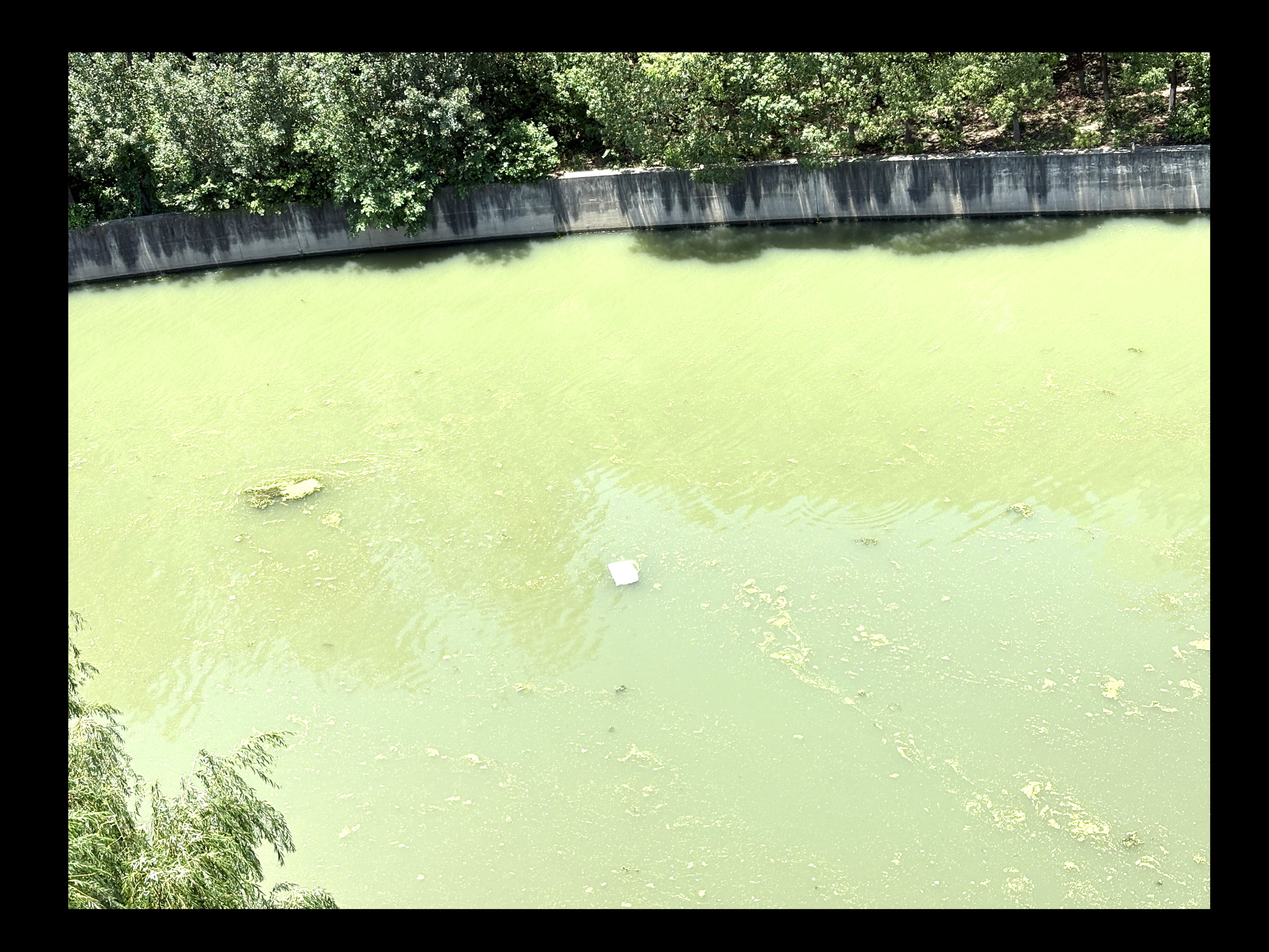Other: (1024, 780, 1114, 837), (245, 470, 323, 510), (1097, 679, 1125, 700), (1009, 500, 1030, 516)
Plastic wastes: (609, 556, 640, 587)
